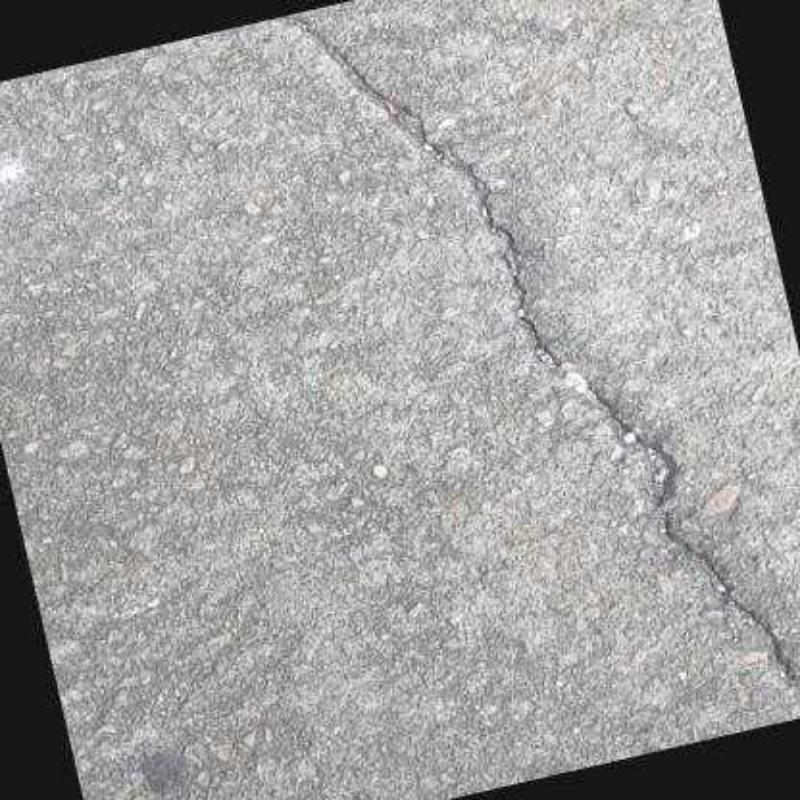pothole: (273, 15, 800, 692)
